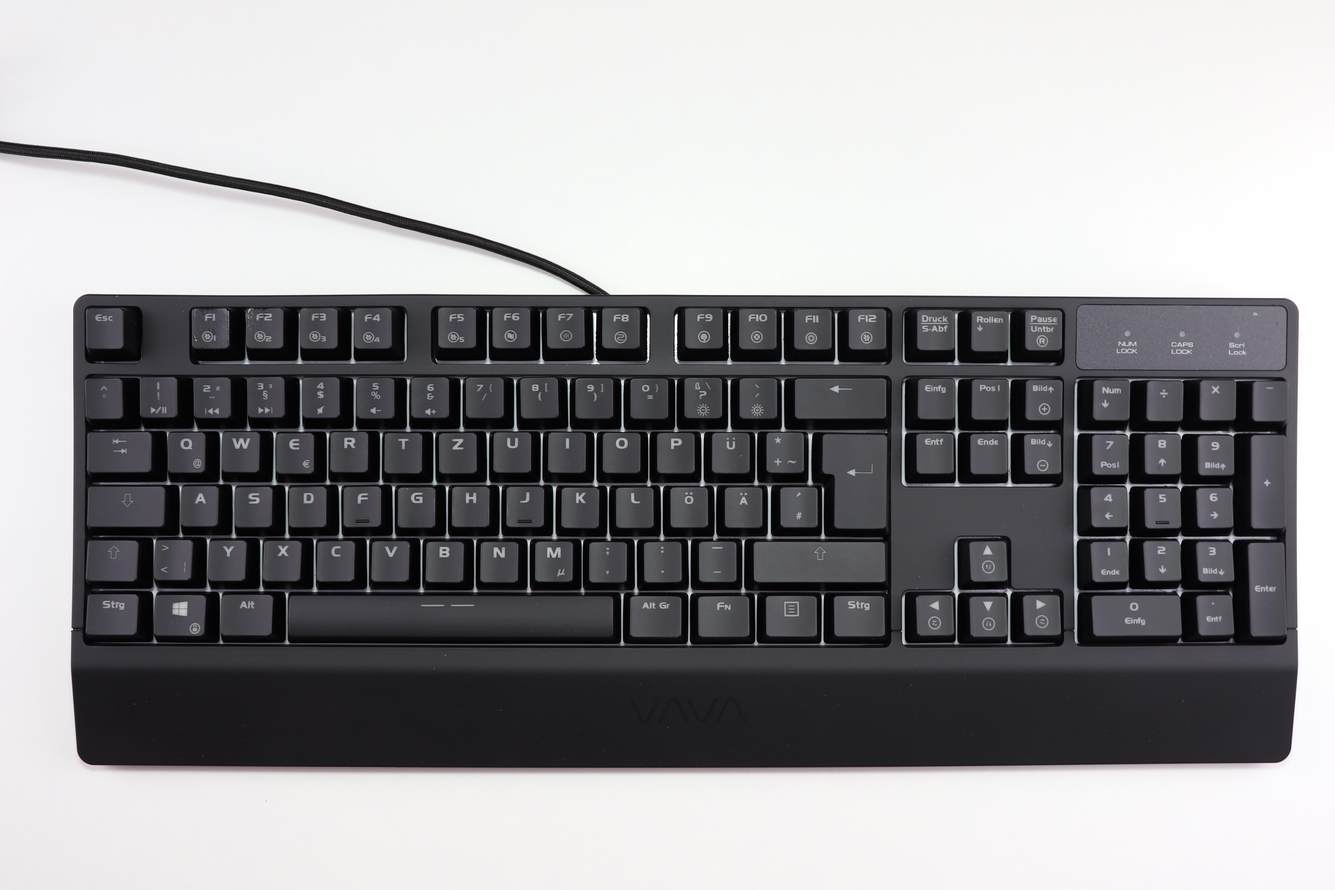0: (211, 126, 226, 142)
1: (44, 126, 58, 141)
2: (62, 126, 76, 142)
3: (80, 126, 94, 142)
4: (99, 126, 113, 142)
5: (118, 126, 132, 142)
6: (136, 126, 151, 142)
7: (155, 126, 169, 141)
8: (173, 126, 188, 142)
9: (192, 126, 207, 142)
a: (58, 163, 72, 178)
accent: (248, 126, 263, 142)
ae: (243, 163, 258, 179)
alt-left: (71, 200, 90, 216)
altgr-right: (210, 200, 230, 216)
b: (141, 181, 156, 197)
c: (104, 181, 118, 197)
caret: (26, 126, 39, 141)
comma: (197, 182, 211, 197)
d: (95, 163, 109, 179)
del: (267, 126, 300, 141)
e: (90, 145, 105, 161)
enter: (275, 145, 300, 180)
f: (113, 163, 127, 178)
g: (132, 163, 146, 178)
h: (150, 163, 164, 178)
hash: (262, 163, 276, 179)
i: (183, 145, 197, 160)
j: (169, 163, 183, 179)
k: (187, 163, 202, 179)
keyboard: (19, 97, 442, 225)
l: (206, 163, 221, 179)
less: (48, 181, 63, 197)
m: (178, 181, 193, 197)
minus: (234, 182, 248, 197)
n: (160, 181, 174, 197)
o: (201, 145, 216, 160)
oe: (224, 163, 239, 179)
p: (220, 145, 235, 160)
plus: (257, 145, 272, 160)
point: (215, 182, 230, 197)
q: (53, 144, 68, 160)
r: (109, 145, 123, 160)
s: (76, 163, 90, 179)
shift-left: (26, 182, 44, 197)
shift-lock: (26, 164, 54, 179)
shift-right: (252, 182, 299, 197)
space: (94, 200, 207, 217)
ss: (229, 126, 244, 142)
strg-left: (26, 200, 45, 215)
strg-right: (280, 200, 300, 216)
t: (127, 145, 141, 160)
tab: (26, 145, 49, 160)
u: (164, 145, 179, 160)
ue: (239, 145, 254, 160)
v: (123, 181, 137, 197)
w: (71, 145, 86, 160)
x: (86, 181, 100, 197)
y: (67, 181, 81, 197)
z: (145, 145, 160, 160)
